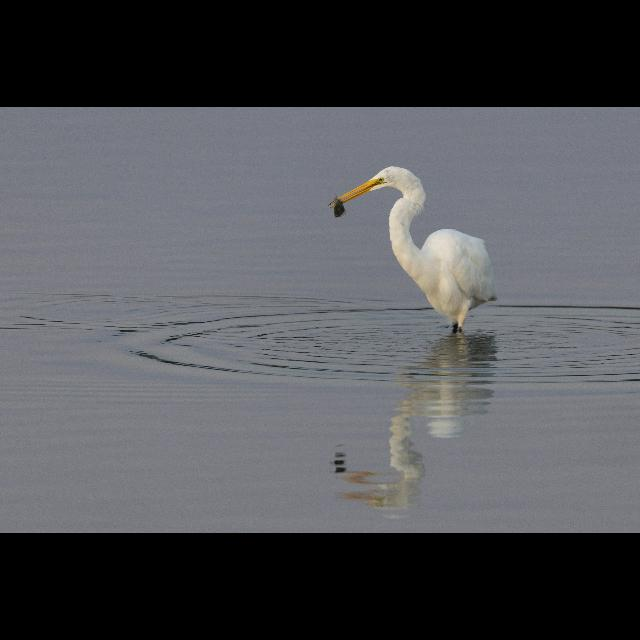egret: (319, 162, 503, 348)
